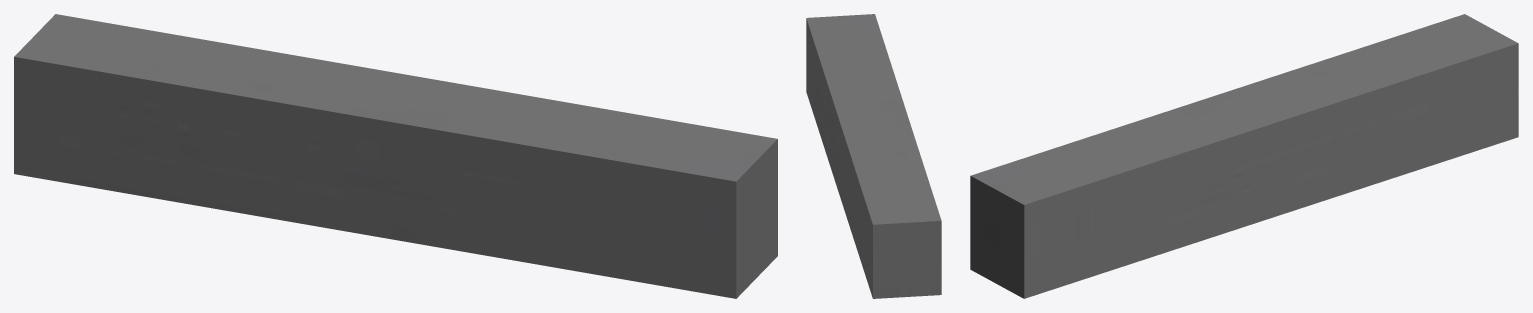
The model's file is frame__back_hinge_strut.glb.
3 views of the same model, side by side, from view 1: azimuth 30°, elevation 25°; view 2: azimuth 150°, elevation 25°; view 3: azimuth 270°, elevation 25° (orthographic). The views are drawn at different scales.
Parts seen in each view (by area): view 1: world; view 2: world; view 3: world.
Boxes of the visible parts, box(x1,y1,x2,y2) form: world: box(14, 14, 777, 298); world: box(806, 14, 941, 298); world: box(970, 14, 1518, 298).
Size of the model in its own units: 0.2835 by 0.065 by 0.3437.
Materials: 1 (1 with a texture image).
